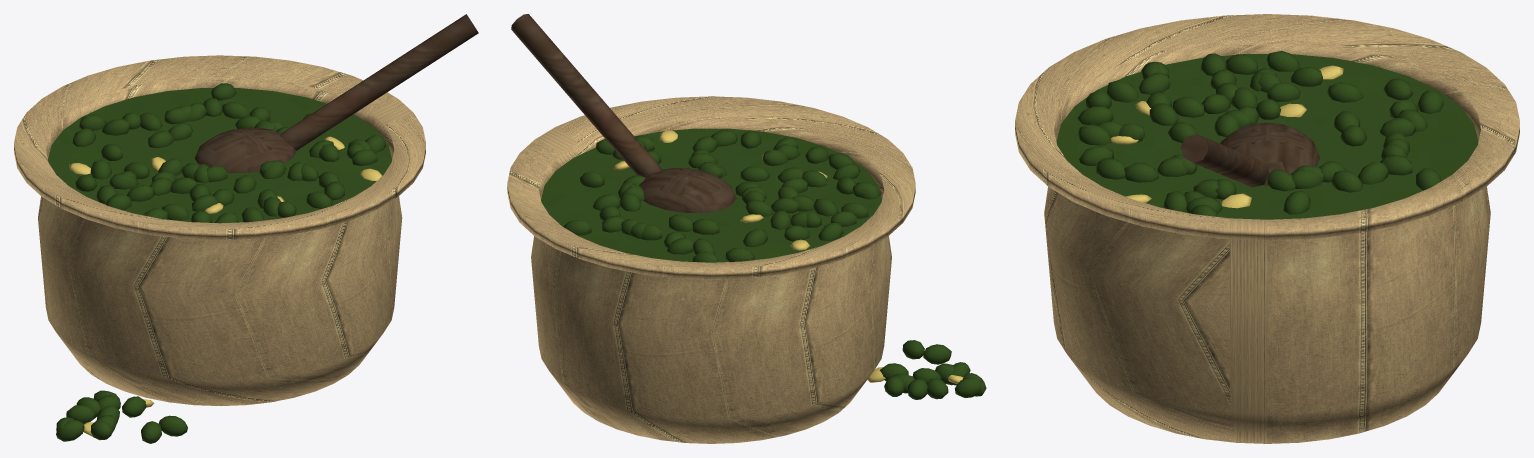
File: PROP_Season_Stand_MungBean.glb
3 renders of one model, left to right at view 1: azimuth 30°, elevation 25°; view 2: azimuth 150°, elevation 25°; view 3: azimuth 270°, elevation 25°, orthographic. The views are drawn at different scales.
Parts seen in each view (by area): view 1: PROP_Season_Stand_MungBean; view 2: PROP_Season_Stand_MungBean; view 3: PROP_Season_Stand_MungBean.
Boxes of the visible parts, box(x1,y1,x2,y2) form: PROP_Season_Stand_MungBean: box(14, 14, 478, 443); PROP_Season_Stand_MungBean: box(507, 14, 986, 443); PROP_Season_Stand_MungBean: box(1015, 14, 1519, 443).
Bounding box in the file's own units: 0.2613 × 0.1676 × 0.208.
Materials: 4 (4 with a texture image).
